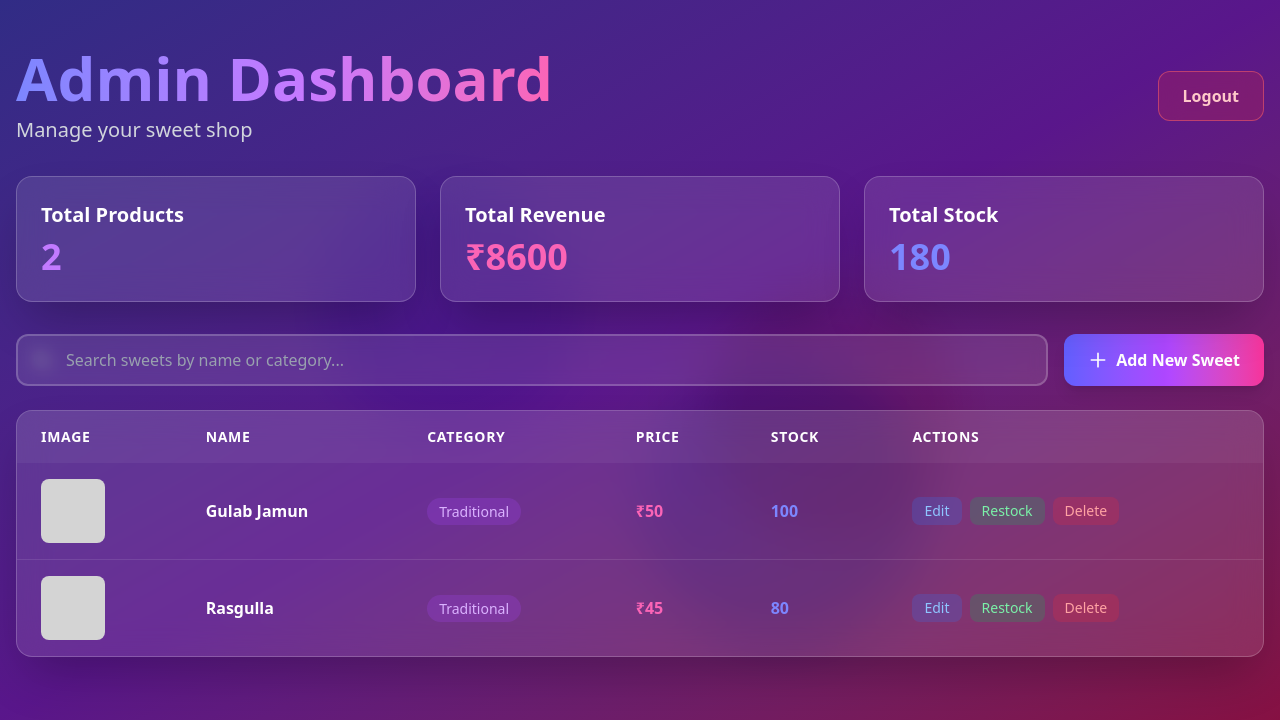
Test: DashboardContent - Restock Sweet › updates sweet stock after successful restock
Expected: the text "Gulab Jamun" is shown, x1=182 y1=463 x2=403 y2=560
Expected: the text "100" is shown, x1=747 y1=463 x2=888 y2=560
Click the button "Restock" in the row of "Gulab Jamun" at [1007, 511], box x1=970 y1=497 x2=1044 y2=525
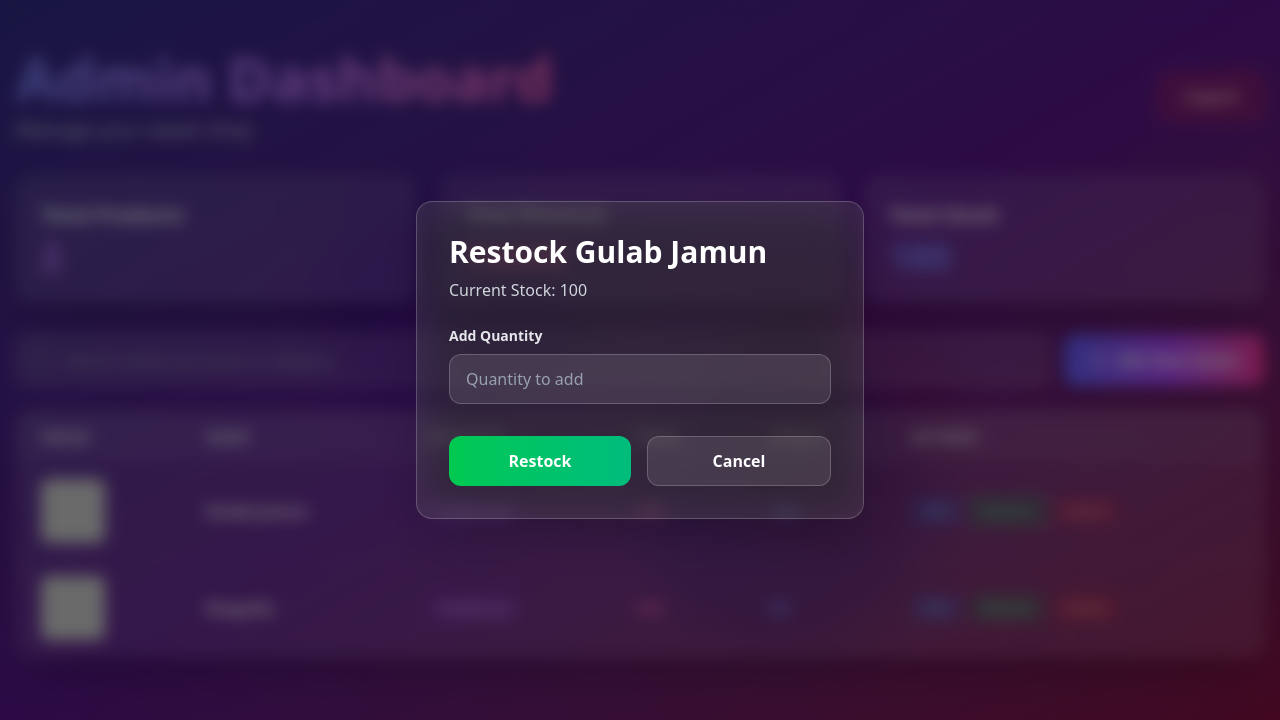
Result: the heading "Restock Gulab Jamun" is shown at x1=449 y1=231 x2=767 y2=272
Type "50" into the number field with placeholder "Quantity to add" at [640, 379], box x1=449 y1=354 x2=831 y2=404
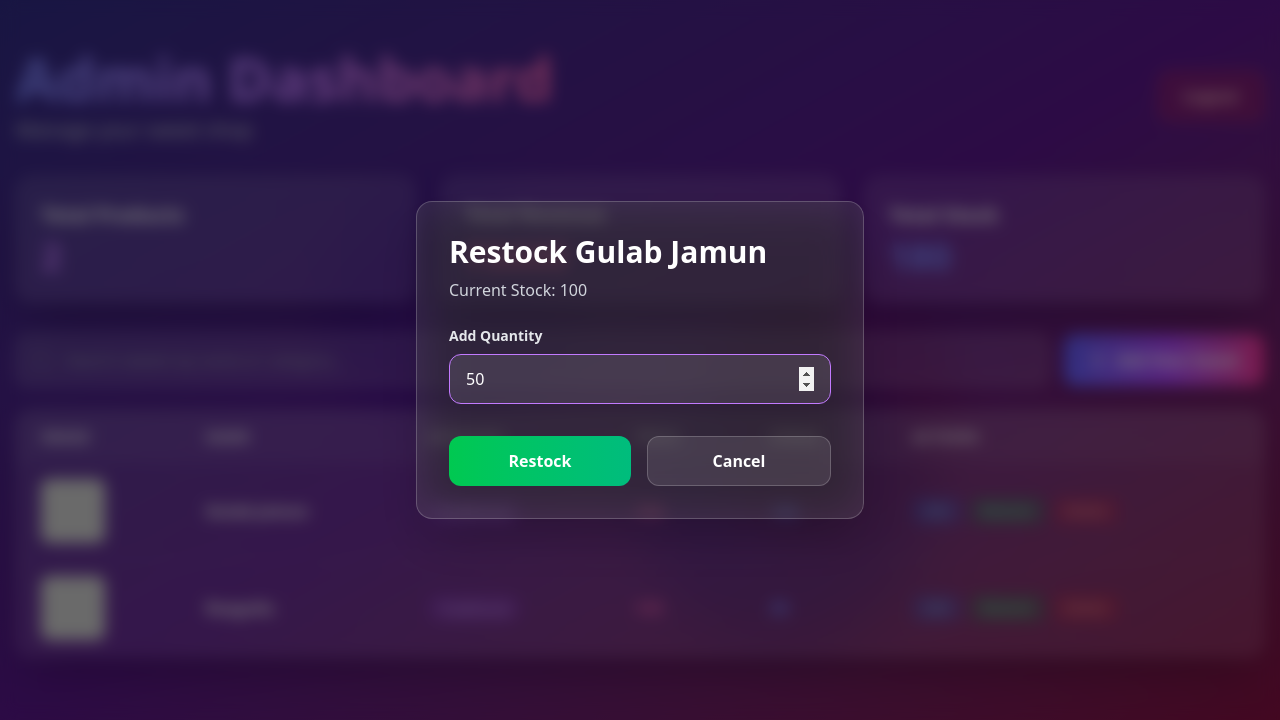
Result: the form with placeholder "Quantity to add" is shown at x1=449 y1=326 x2=831 y2=486
Click the submit button at [540, 461], box x1=449 y1=436 x2=631 y2=486
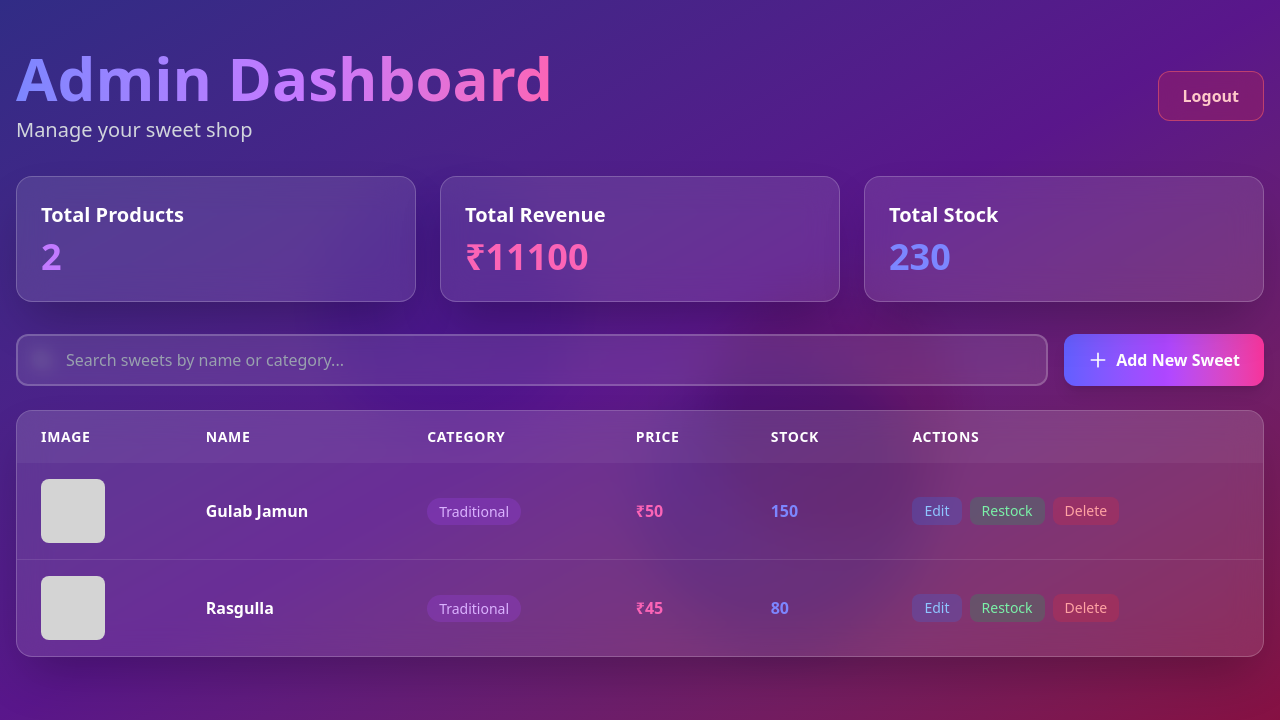
Result: the heading "Restock Gulab Jamun" is gone
Result: the text "150" is shown at x1=747 y1=463 x2=888 y2=560
